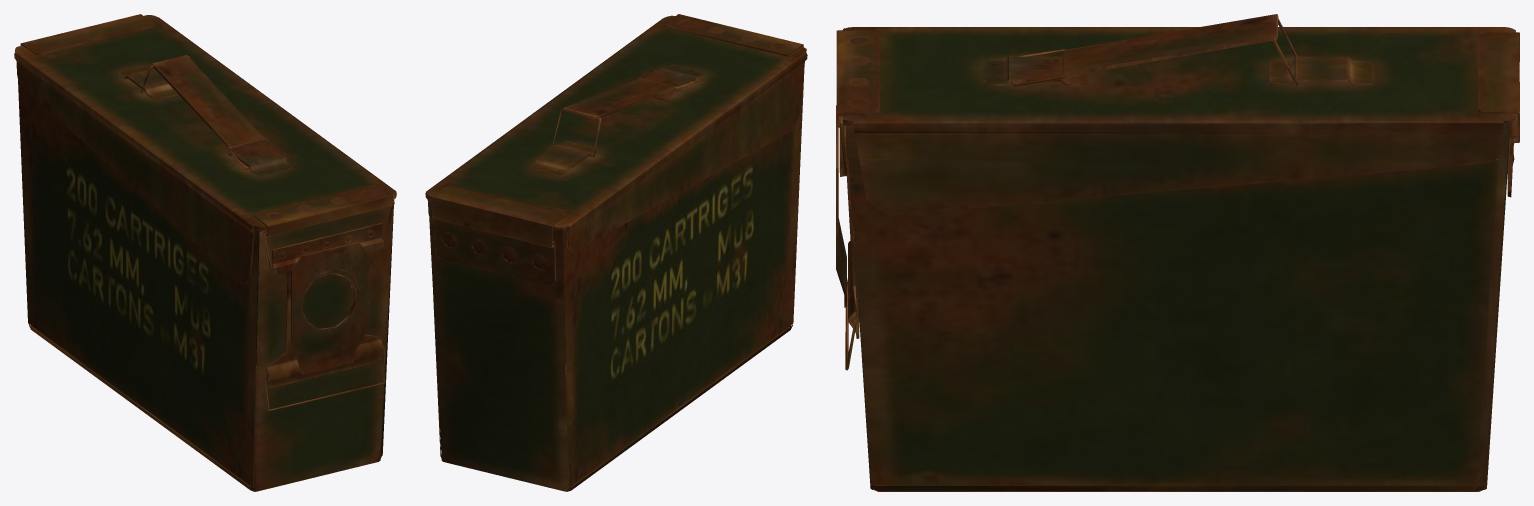
File: ammo_box.glb
3 renders of one model, left to right at view 1: azimuth 30°, elevation 25°; view 2: azimuth 150°, elevation 25°; view 3: azimuth 270°, elevation 25°, orthographic. The views are drawn at different scales.
Visible parts, largest first — view 1: ammo_box_handle_ring_b; view 2: ammo_box_handle_ring_b; view 3: ammo_box_handle_ring_b.
Part boxes in pixels (box(x1,y1,x2,y2)): ammo_box_handle_ring_b: box(14, 14, 396, 491); ammo_box_handle_ring_b: box(425, 14, 807, 491); ammo_box_handle_ring_b: box(836, 14, 1519, 491).
Size of the model in its own units: 0.0865 by 0.1774 by 0.2577.
1 material, 1 textured.
